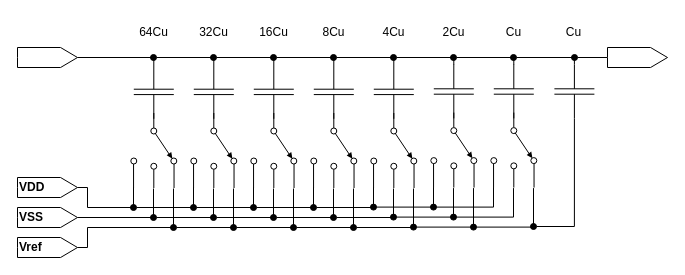
Image size: 685x275. Some labels were removed from this diagram. The shapes that lost their labels are listed below. From the top down, each one's centre as x and y in pixels, then its label:
At point 47,57: "VIN".
At point 637,57: "Comp In".
